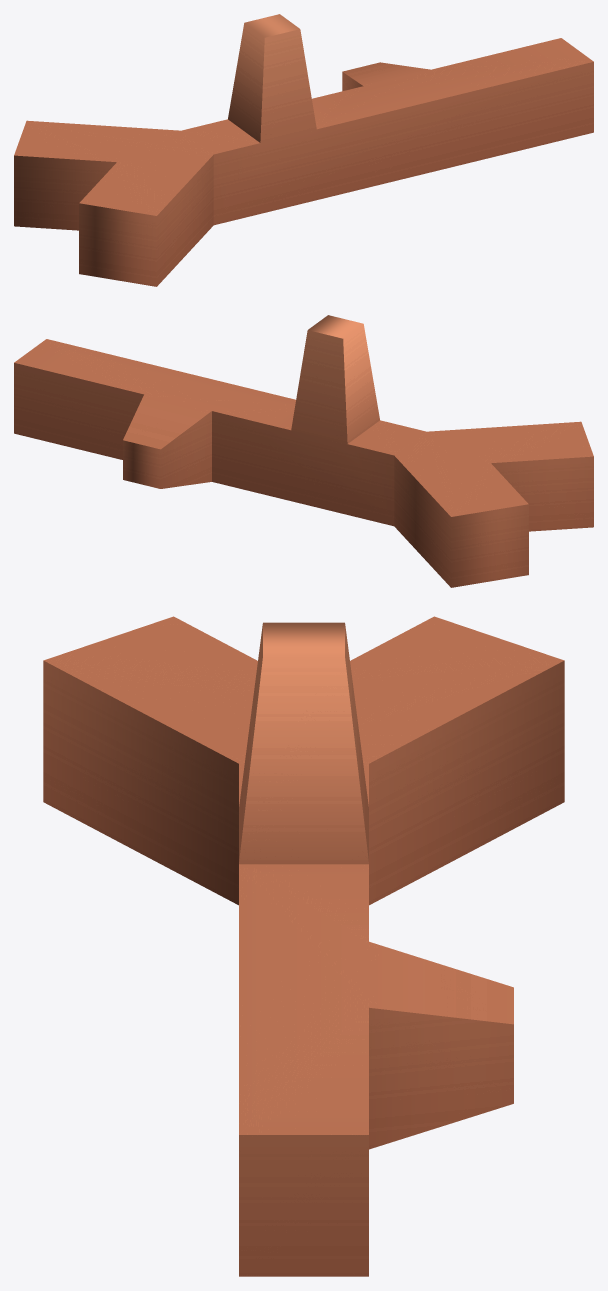
File: resource-wood.glb
The picture shows the model from 3 angles, top to bottom: view 1: azimuth 30°, elevation 25°; view 2: azimuth 150°, elevation 25°; view 3: azimuth 270°, elevation 25°; orthographic projection. The views are drawn at different scales.
Visible parts, largest first — view 1: resource-wood; view 2: resource-wood; view 3: resource-wood.
Boxes of the visible parts, x1,y1,x2,y2 form: resource-wood: [14, 14, 593, 286]; resource-wood: [14, 315, 593, 587]; resource-wood: [43, 616, 564, 1276].
Bounding box in the file's own units: 0.205 × 0.0624 × 0.0871.
1 material, 1 textured.
